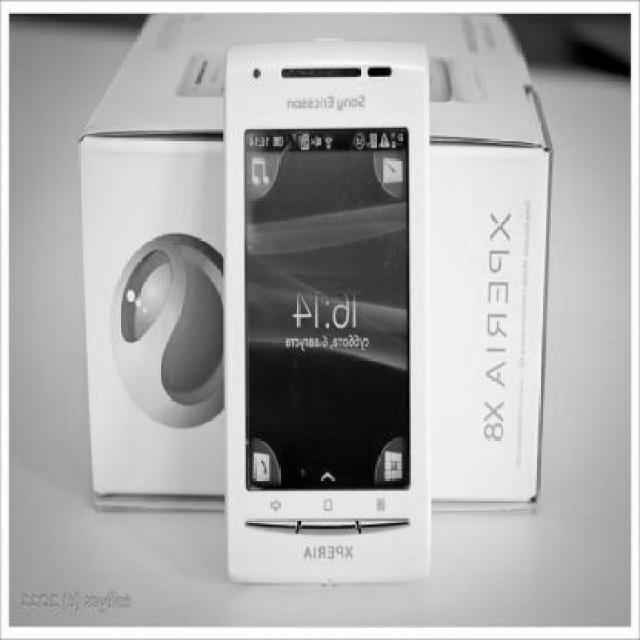fake: (223, 12, 429, 591)
